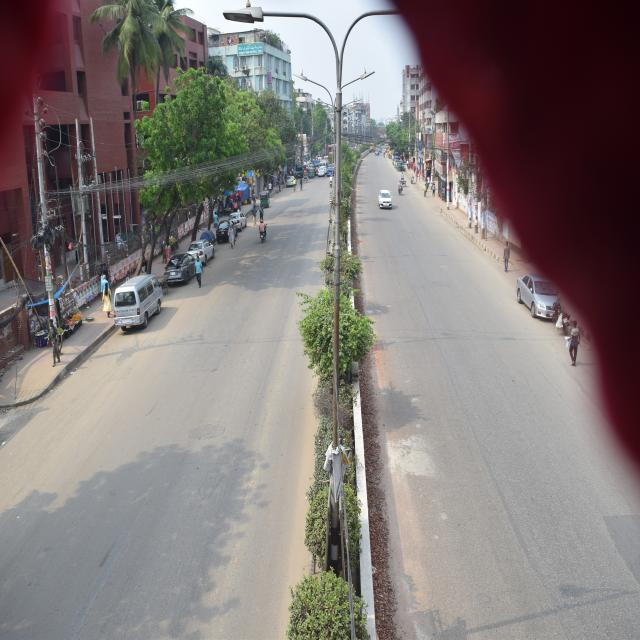car: (514, 268, 564, 318), (165, 245, 195, 287), (372, 189, 403, 227), (181, 238, 213, 273), (209, 216, 232, 246), (279, 168, 298, 189), (316, 159, 326, 177)
microbus: (105, 276, 173, 324)
motorbike: (548, 300, 572, 336), (255, 212, 268, 246)
